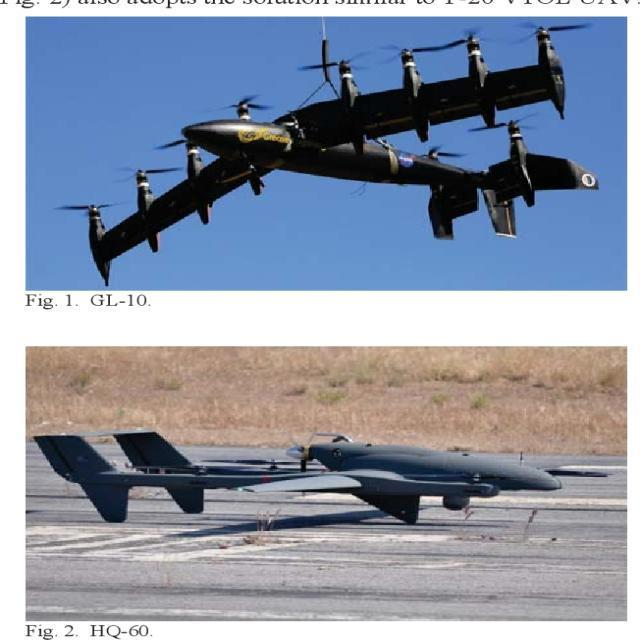iha: (34, 406, 610, 550)
